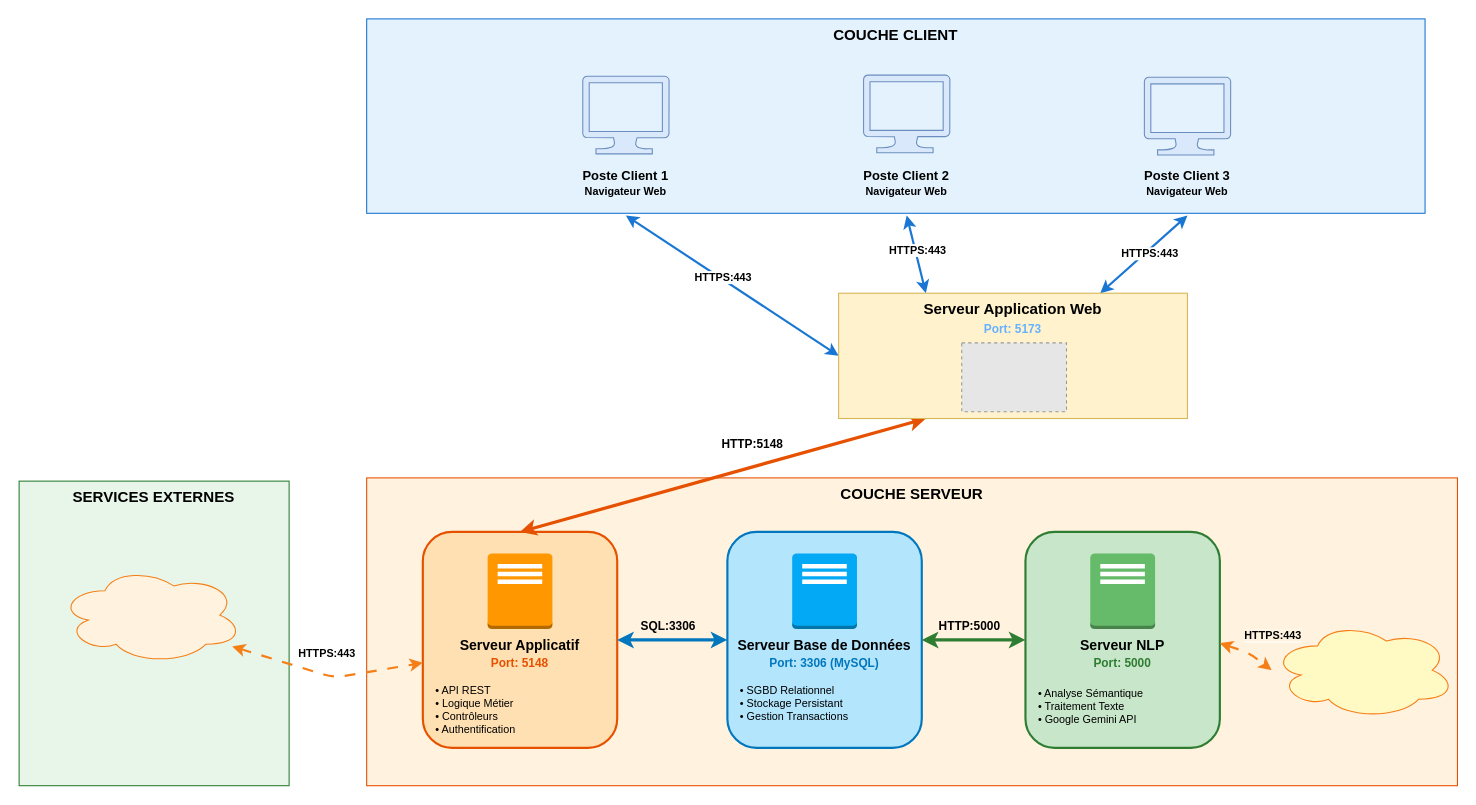
This 1476x805 diagram has some shape labels left out. Grey dashed boxes stand in for pictures. The shapes that lost their labels are listed below. From the top down, each one's centre as x and y in pixels, then its label:
At (150,614): "API Paiement Stripe (Port 443)".
At (1363,669): "API IA Google Gemini (Port 443)".
